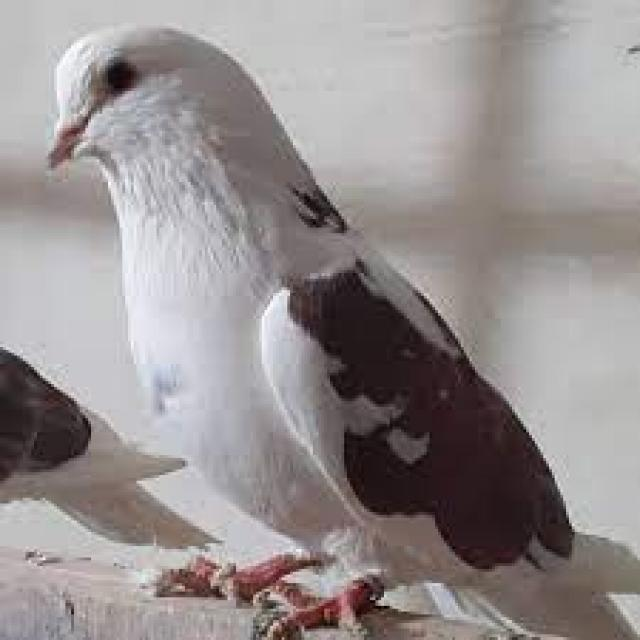bird: (42, 22, 640, 640)
